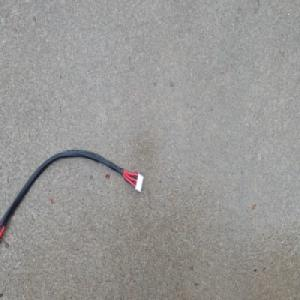Wire: (0, 147, 144, 242)
